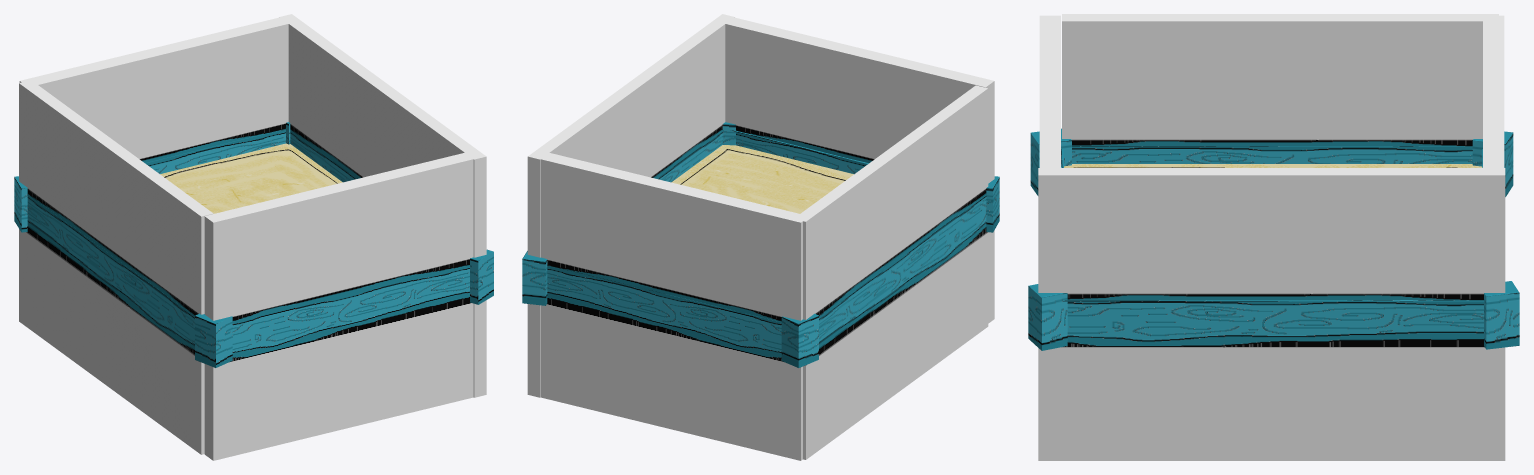
Rendered from sandpit.fbx.
3 views of the same model, side by side, from view 1: azimuth 30°, elevation 25°; view 2: azimuth 150°, elevation 25°; view 3: azimuth 270°, elevation 25° (orthographic). The views are drawn at different scales.
Visible parts, largest first — view 1: Cube.005; view 2: Cube.005; view 3: Cube.005.
Boxes of the visible parts, left/top/right/bottom form: Cube.005: left=14, top=14, right=493, bottom=460; Cube.005: left=522, top=14, right=999, bottom=460; Cube.005: left=1028, top=14, right=1519, bottom=460.
Bounding box in the file's own units: 385 × 302 × 471.
Materials: 2 (2 with a texture image).
